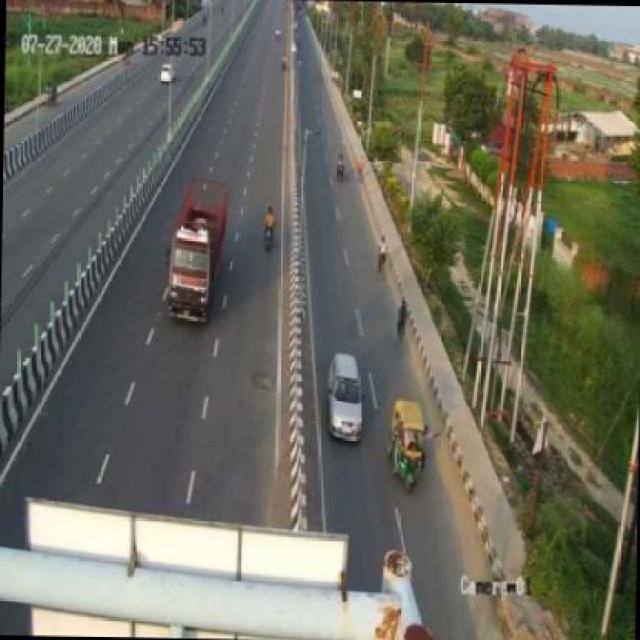car: (315, 348, 368, 444)
